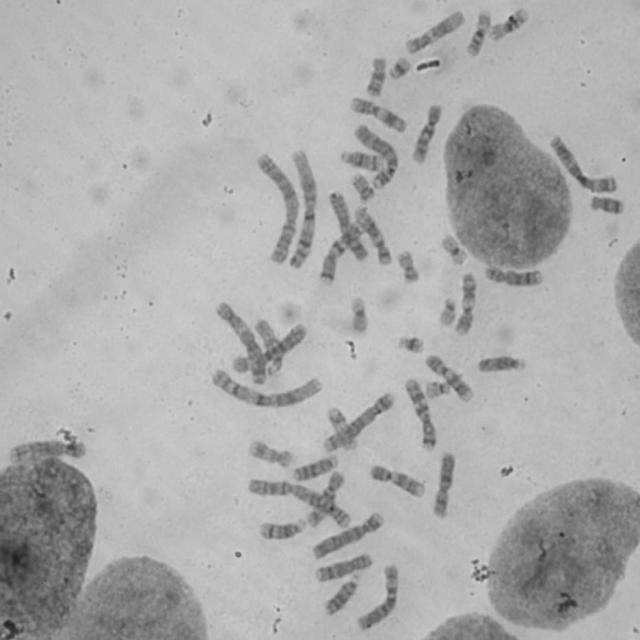A1: (211, 368, 326, 412), (287, 148, 318, 268)
A2: (245, 474, 355, 532), (255, 151, 301, 266)
A3: (212, 300, 267, 386), (548, 135, 618, 195)
B4: (310, 511, 386, 560), (352, 123, 398, 190)
B5: (322, 392, 396, 454), (7, 438, 89, 464)
C10: (305, 469, 345, 528), (411, 102, 443, 164)
C11: (349, 95, 407, 134), (454, 272, 476, 336)
C12: (405, 9, 465, 54), (354, 206, 393, 266)
C6: (230, 323, 308, 375), (357, 563, 399, 632)
C7: (318, 218, 366, 286), (404, 377, 438, 452)
C8: (313, 552, 373, 583), (484, 265, 544, 288)
C9: (424, 352, 474, 400), (370, 463, 426, 498)
D13: (324, 572, 361, 616), (286, 455, 340, 482)
D14: (256, 517, 305, 540), (340, 150, 384, 172)
D15: (253, 317, 284, 376), (477, 354, 525, 374)
E16: (488, 7, 530, 41), (466, 11, 491, 57)
E17: (327, 406, 359, 452), (248, 439, 294, 469)
E18: (365, 55, 387, 96), (589, 192, 625, 216)
F19: (439, 231, 469, 267), (348, 295, 371, 334)
F20: (395, 248, 421, 283), (350, 172, 375, 204)
G21: (392, 334, 426, 355), (386, 56, 412, 80)
G22: (438, 296, 456, 328), (424, 380, 450, 399)
X: (328, 190, 369, 263), (431, 451, 456, 518)
